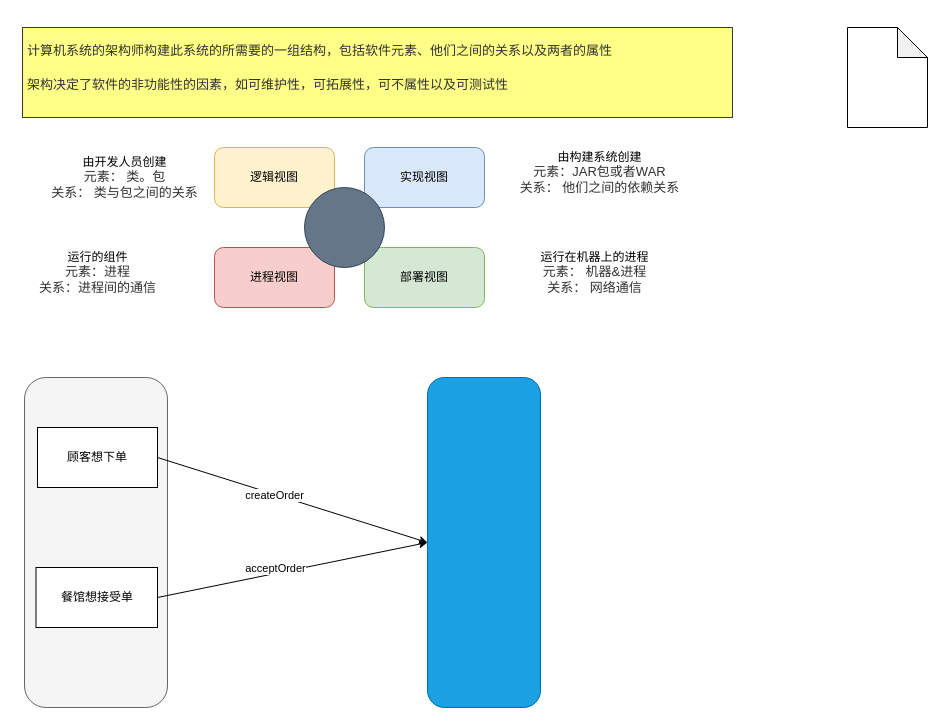
This 945x725 diagram has some shape labels left out. Each missing label, with the box of its shape:
场景: (304, 186, 384, 268)
餐饮App: (426, 376, 540, 708)
